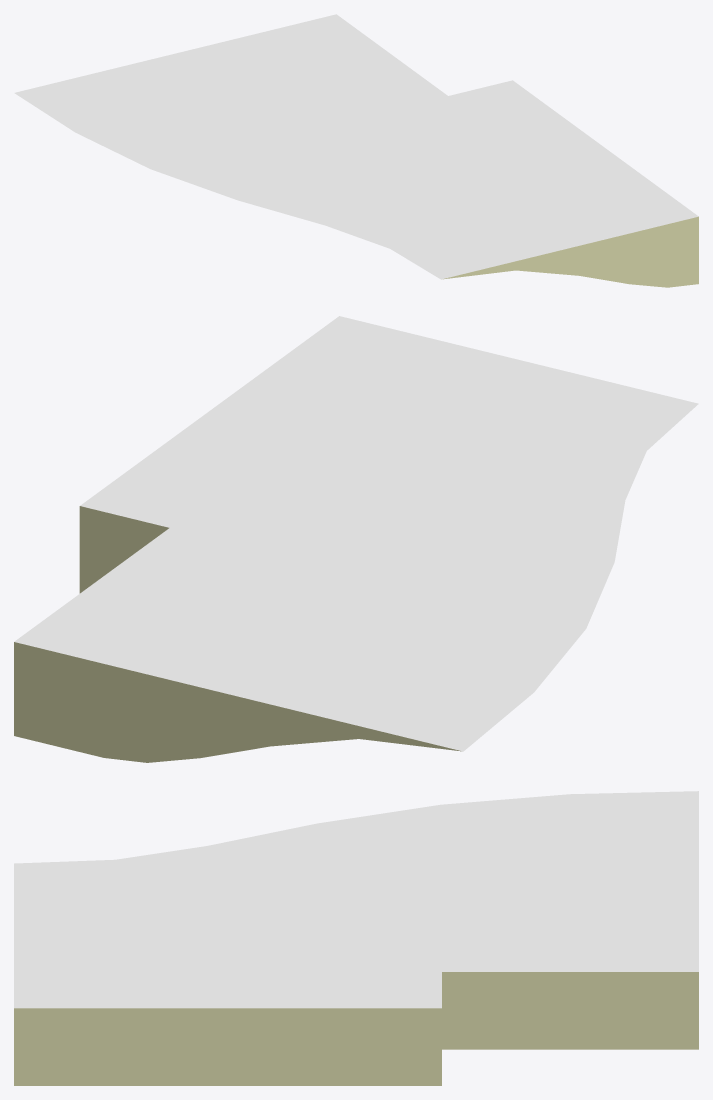
File: Ceiling_Esse_6x8.glb
3 renders of one model, top to bottom at view 1: azimuth 30°, elevation 25°; view 2: azimuth 150°, elevation 25°; view 3: azimuth 270°, elevation 25°, orthographic. The views are drawn at different scales.
Parts seen in each view (by area): view 1: Ceiling_Esse_6x8; view 2: Ceiling_Esse_6x8; view 3: Ceiling_Esse_6x8.
Part boxes in pixels (x1=…): Ceiling_Esse_6x8: x1=14, y1=14, x2=698, y2=287; Ceiling_Esse_6x8: x1=14, y1=316, x2=698, y2=762; Ceiling_Esse_6x8: x1=14, y1=791, x2=698, y2=1085.
Size of the model in its own units: 600 by 100 by 800.
